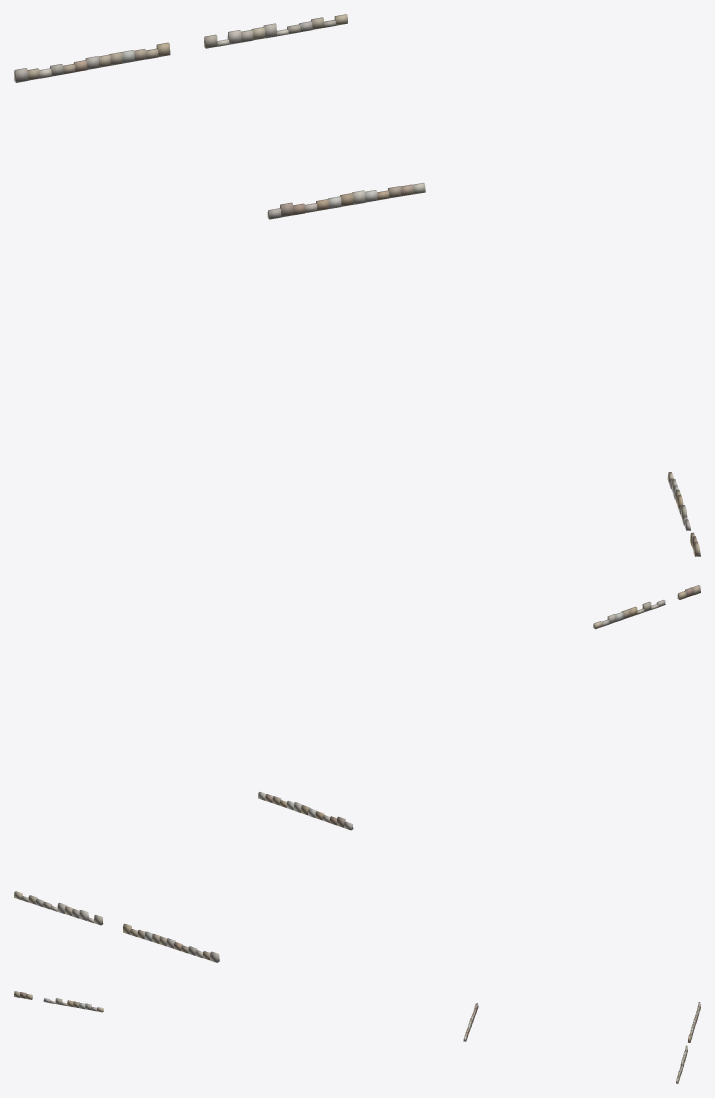
Rendered from farm_5_19_collision.glb.
The picture shows the model from 3 angles, top to bottom: view 1: azimuth 30°, elevation 25°; view 2: azimuth 150°, elevation 25°; view 3: azimuth 270°, elevation 25°; orthographic projection. The views are drawn at different scales.
Visible parts, largest first — view 1: geometry_0; view 2: geometry_0; view 3: geometry_0.
Boxes of the visible parts, x1=… form: geometry_0: x1=14, y1=14, x2=700, y2=556; geometry_0: x1=14, y1=585, x2=700, y2=962; geometry_0: x1=14, y1=991, x2=700, y2=1083.
Bounding box in the file's own units: 43.98 × 4.53 × 167.
